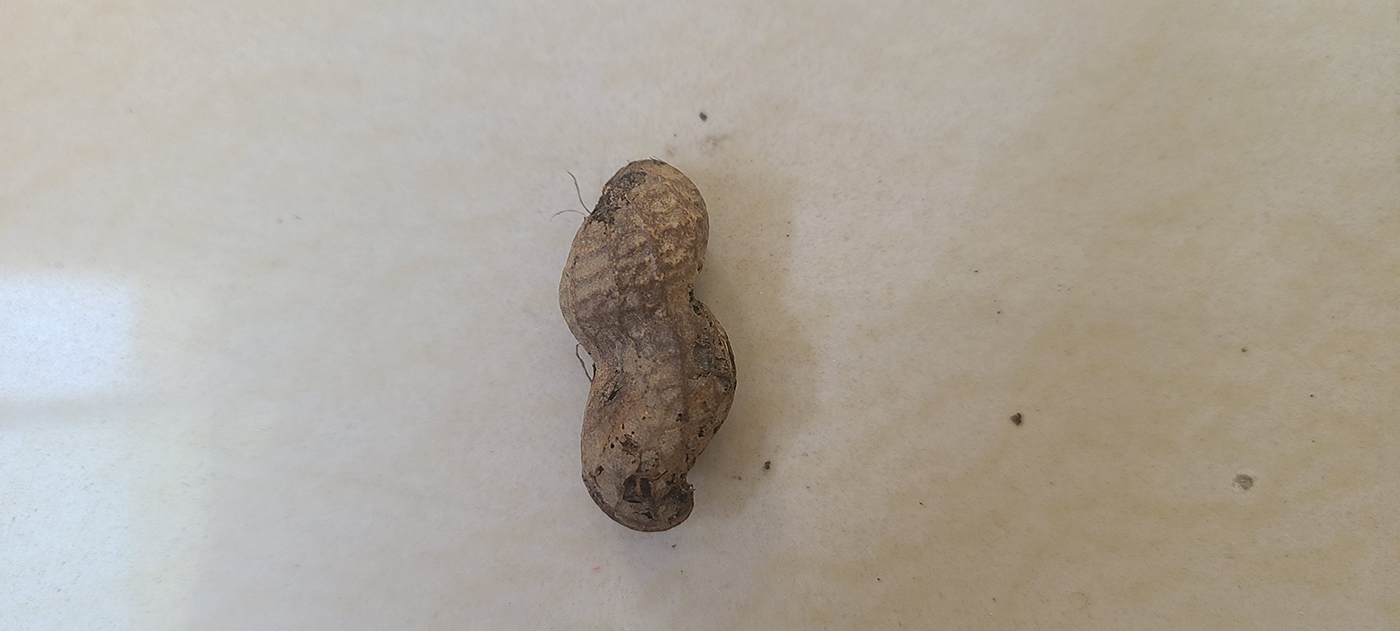l: (555, 154, 739, 531)
